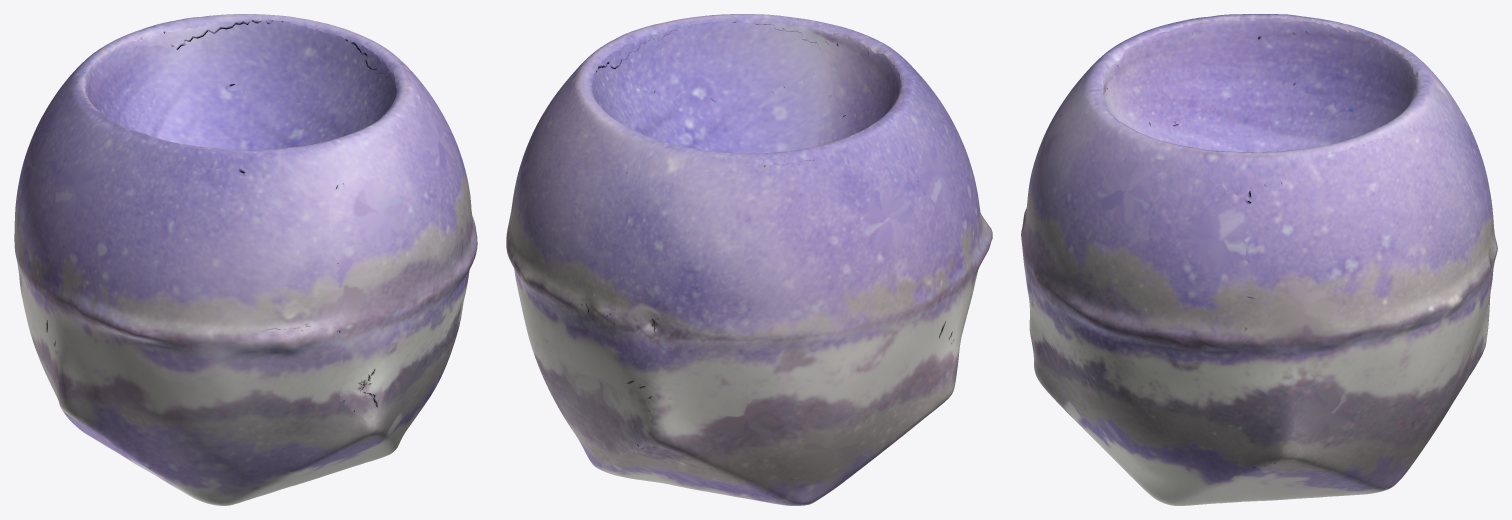
Rendered from GoddessScanned.gltf.
3 renders of one model, left to right at view 1: azimuth 30°, elevation 25°; view 2: azimuth 150°, elevation 25°; view 3: azimuth 270°, elevation 25°, orthographic. The views are drawn at different scales.
Visible parts, largest first — view 1: godess; view 2: godess; view 3: godess.
Boxes of the visible parts, <box> form: godess: <box>14,14,477,505</box>; godess: <box>506,14,992,505</box>; godess: <box>1021,14,1497,505</box>.
Size of the model in its own units: 7.23 by 6.22 by 7.21.
Materials: 1 (1 with a texture image).
